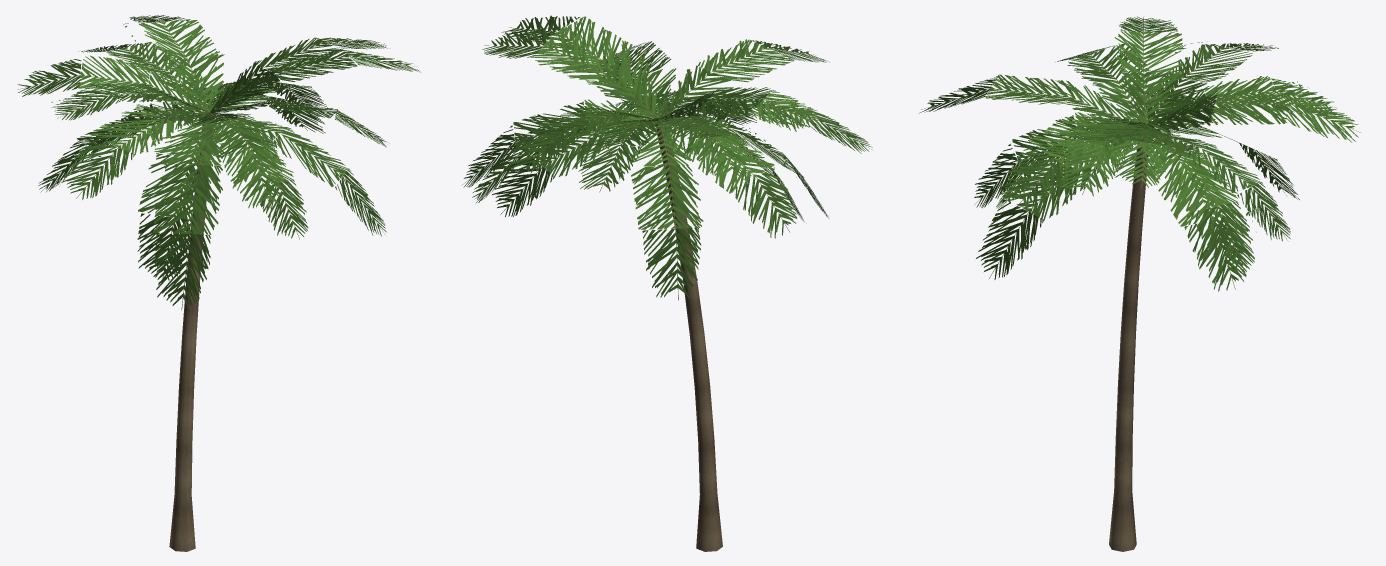
Rendered from near.glb.
3 views of the same model, side by side, from view 1: azimuth 30°, elevation 25°; view 2: azimuth 150°, elevation 25°; view 3: azimuth 270°, elevation 25° (orthographic). The views are drawn at different scales.
Visible parts, largest first — view 1: palm_05; view 2: palm_05; view 3: palm_05.
Part boxes in pixels (x1,y1,x2,y2): palm_05: [17, 15, 420, 551]; palm_05: [462, 15, 872, 551]; palm_05: [919, 16, 1360, 551].
Bounding box in the file's own units: 11.34 × 13.55 × 11.7.
Materials: 2 (2 with a texture image).
